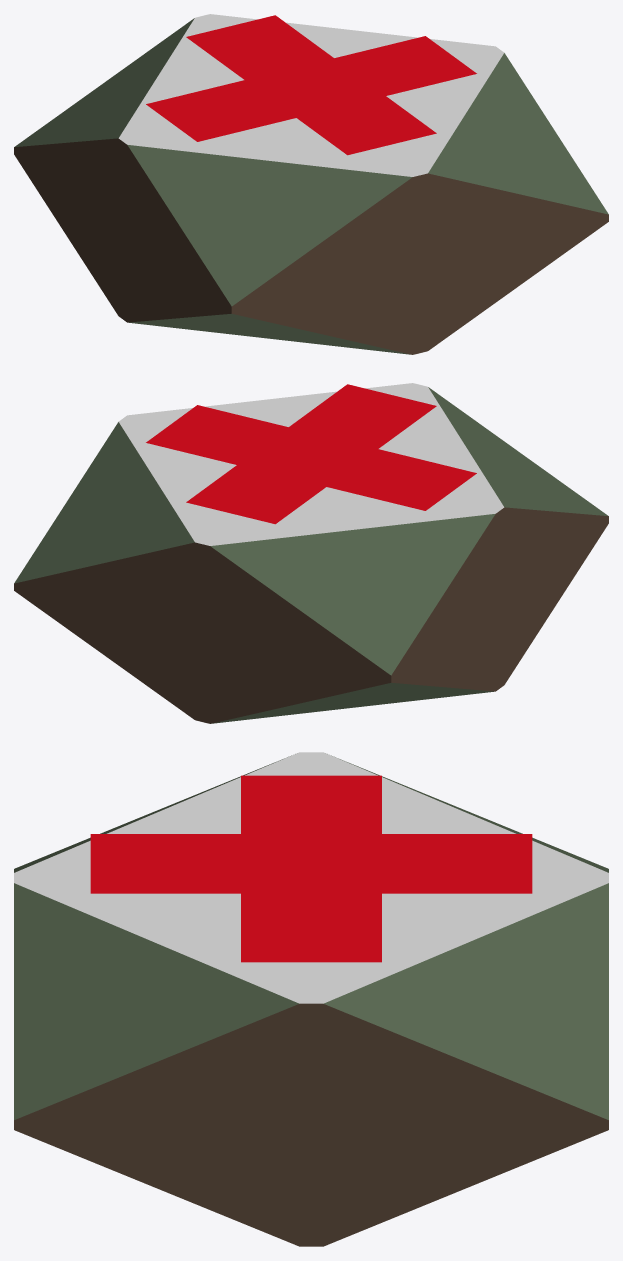
File: health.fbx
3 views of the same model, one above another, from view 1: azimuth 30°, elevation 25°; view 2: azimuth 150°, elevation 25°; view 3: azimuth 270°, elevation 25° (orthographic). The views are drawn at different scales.
Visible parts, largest first — view 1: health; view 2: health; view 3: health.
Boxes of the visible parts, x1=… form: health: x1=14, y1=14, x2=608, y2=354; health: x1=14, y1=383, x2=608, y2=723; health: x1=14, y1=752, x2=608, y2=1246.
Size of the model in its own units: 2 by 0.9533 by 2.
